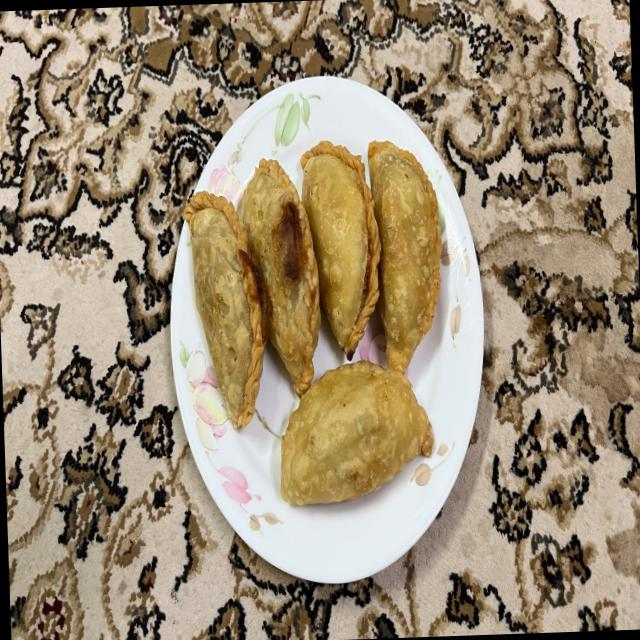karipap: (280, 361, 430, 505), (182, 191, 268, 427), (241, 159, 320, 396), (301, 140, 380, 359), (368, 140, 441, 373)
